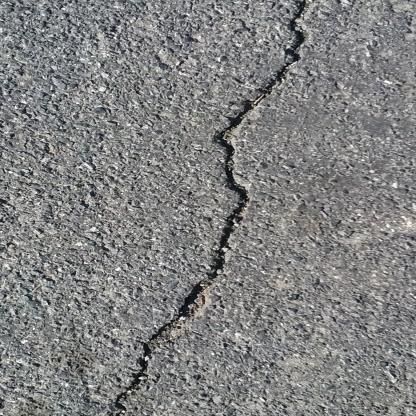Cracks: (110, 0, 334, 416)
